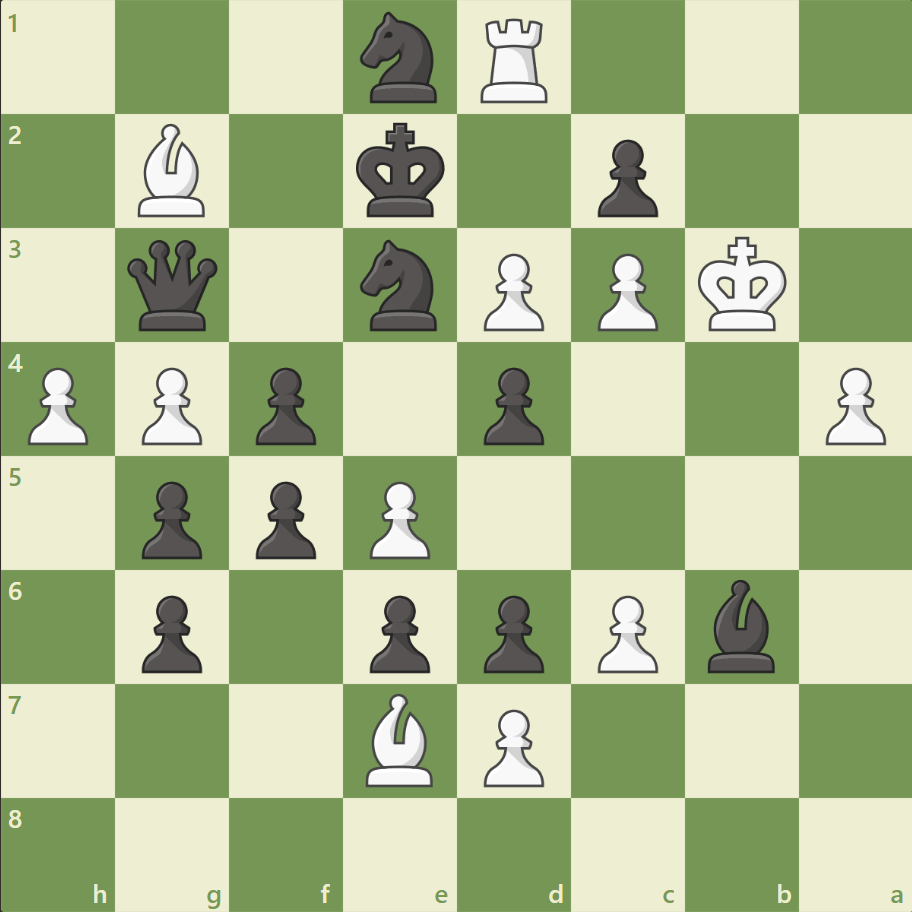B: (358, 687, 442, 790), (131, 120, 215, 222)
K: (692, 231, 792, 339)
P: (474, 700, 549, 791), (133, 359, 208, 450), (20, 359, 95, 450), (474, 246, 549, 337), (588, 586, 662, 677), (361, 473, 435, 564), (815, 359, 889, 450), (588, 246, 662, 337)
R: (473, 12, 556, 109)
b: (698, 574, 782, 676)
k: (351, 117, 451, 225)
n: (351, 234, 449, 337), (351, 7, 449, 110)
p: (474, 586, 549, 677), (133, 586, 208, 677), (247, 473, 322, 564), (133, 473, 208, 564), (474, 359, 549, 450), (247, 359, 322, 450), (361, 586, 435, 677), (588, 132, 662, 223)
q: (124, 236, 223, 335)
